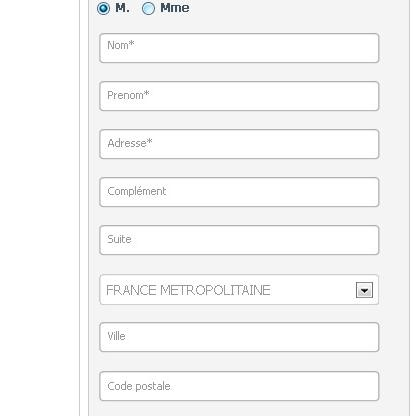field: (98, 77, 381, 114), (98, 318, 380, 354), (98, 31, 380, 66), (98, 174, 380, 209), (97, 369, 382, 402), (97, 127, 381, 160), (98, 224, 381, 257)
